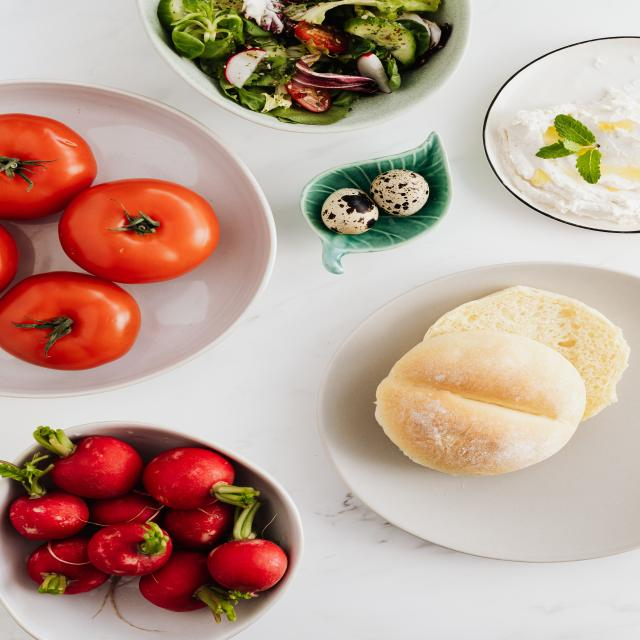Tomato: (3, 268, 152, 374), (51, 183, 214, 275)
